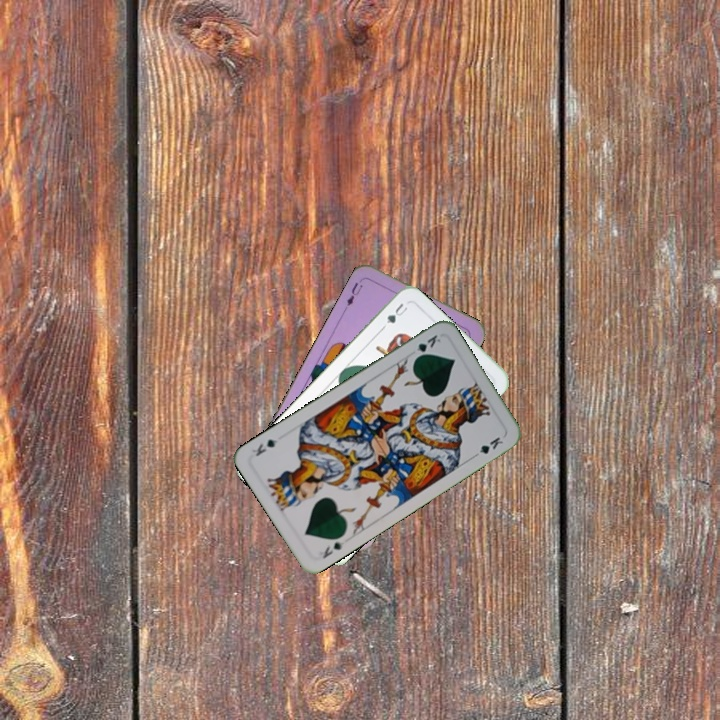EU: (343, 274, 367, 309)
GK: (409, 330, 443, 362), (319, 537, 347, 561)
GU: (378, 299, 410, 331)
